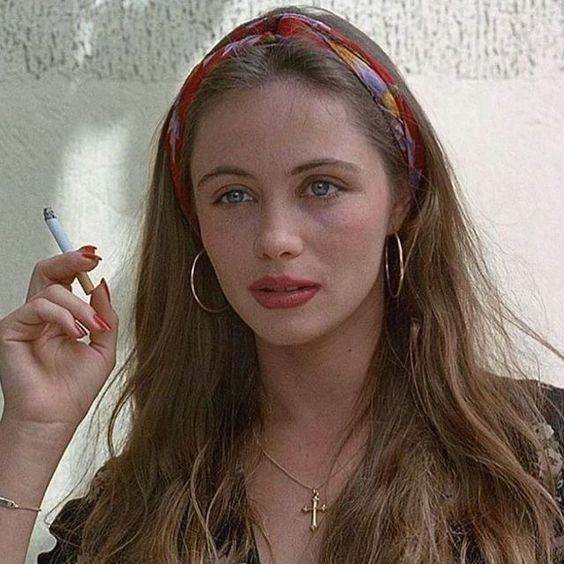cigarette: (43, 207, 95, 296)
